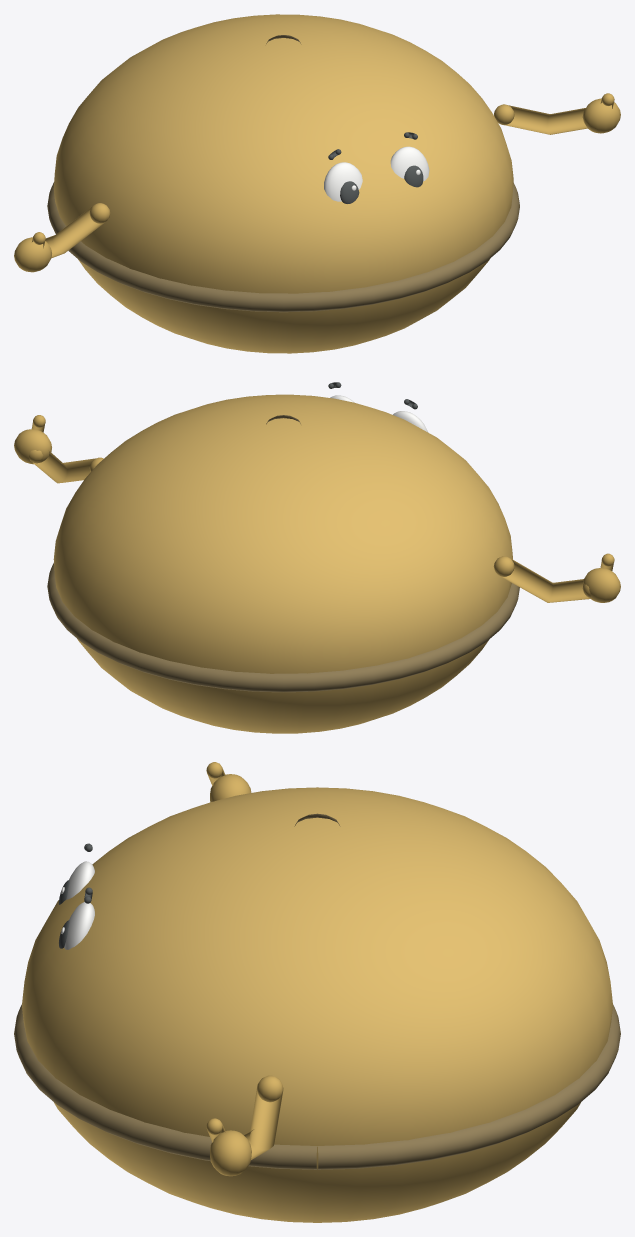
Rendered from other.glb.
3 renders of one model, top to bottom at view 1: azimuth 30°, elevation 25°; view 2: azimuth 150°, elevation 25°; view 3: azimuth 270°, elevation 25°, orthographic. The views are drawn at different scales.
Parts seen in each view (by area): view 1: fabric, frame, armR, armL, eyeballL, eyeballR; view 2: fabric, frame, armL, armR; view 3: fabric, frame, armR, armL, eyeballR.
Boxes of the visible parts, x1,y1,x2,y2 form: fabric: (53, 14, 513, 353); frame: (47, 35, 519, 312); armR: (494, 93, 620, 134); armL: (14, 203, 110, 272); eyeballL: (324, 162, 362, 201); eyeballR: (390, 146, 429, 181); fabric: (53, 394, 512, 733); frame: (47, 415, 519, 692); armL: (493, 553, 620, 602); armR: (14, 415, 103, 483); fabric: (22, 787, 612, 1222); frame: (14, 813, 620, 1169); armR: (206, 1075, 283, 1176); armL: (206, 762, 251, 802); eyeballR: (64, 902, 94, 949).
Size of the model in its own units: 2.27 by 1.03 by 1.54.
